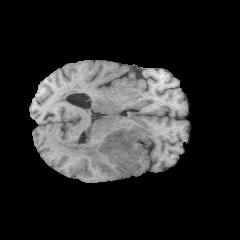glioma: (76, 121, 152, 170)
